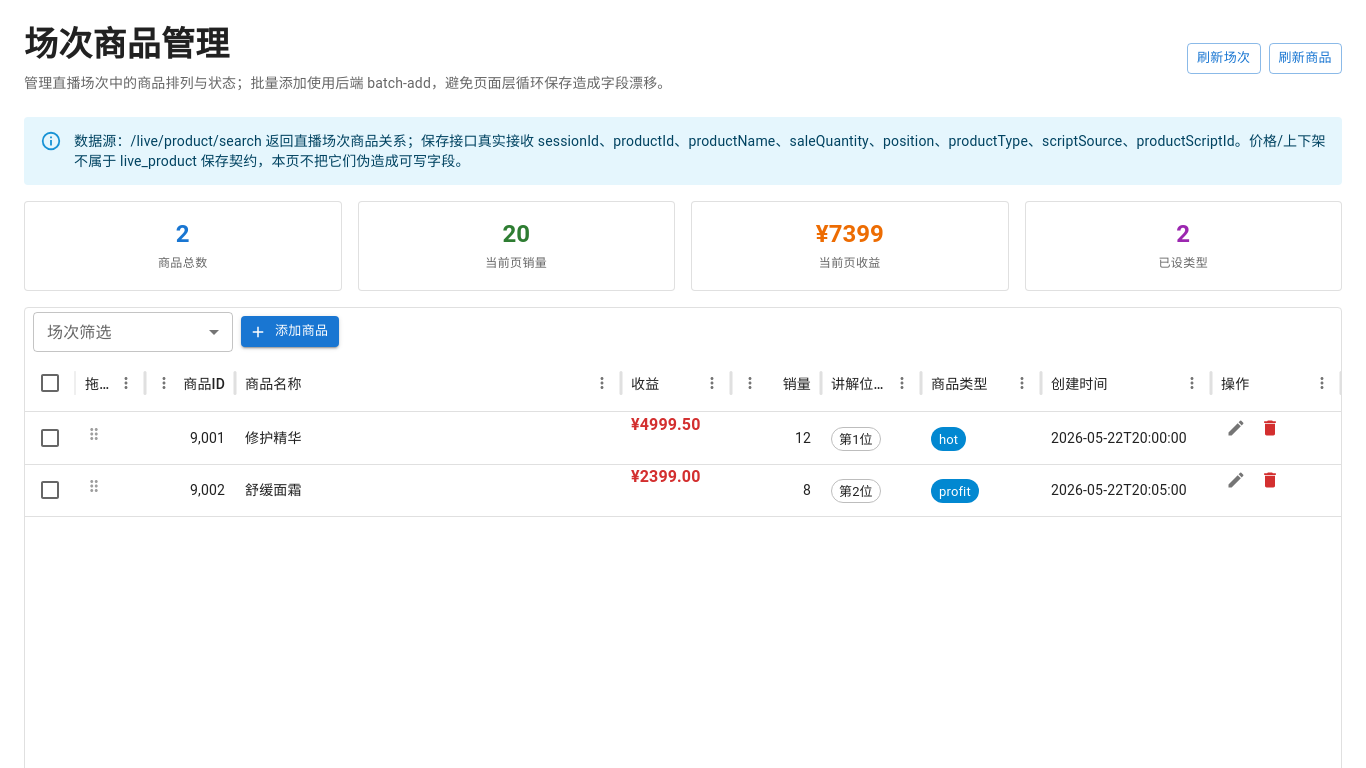
Test case: LiveProductPage › shows delete failure and keeps the row visible
Expected: the text "修护精华" is shown, [245,430,302,446]
Click the button named "删除" in the row of "9,001".
click(1270, 428)  # box [1255,413,1285,443]
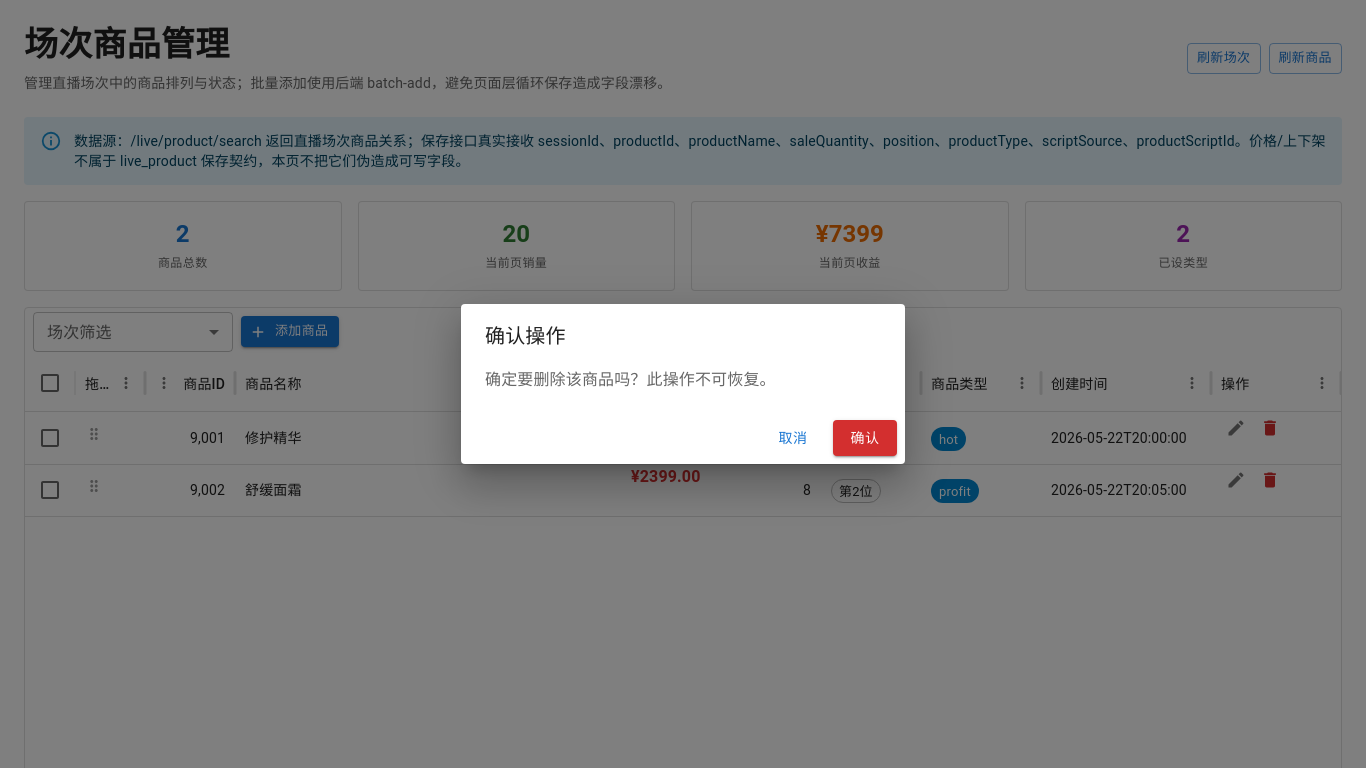
Click the button "确认".
click(865, 438)  # box [833,420,897,456]
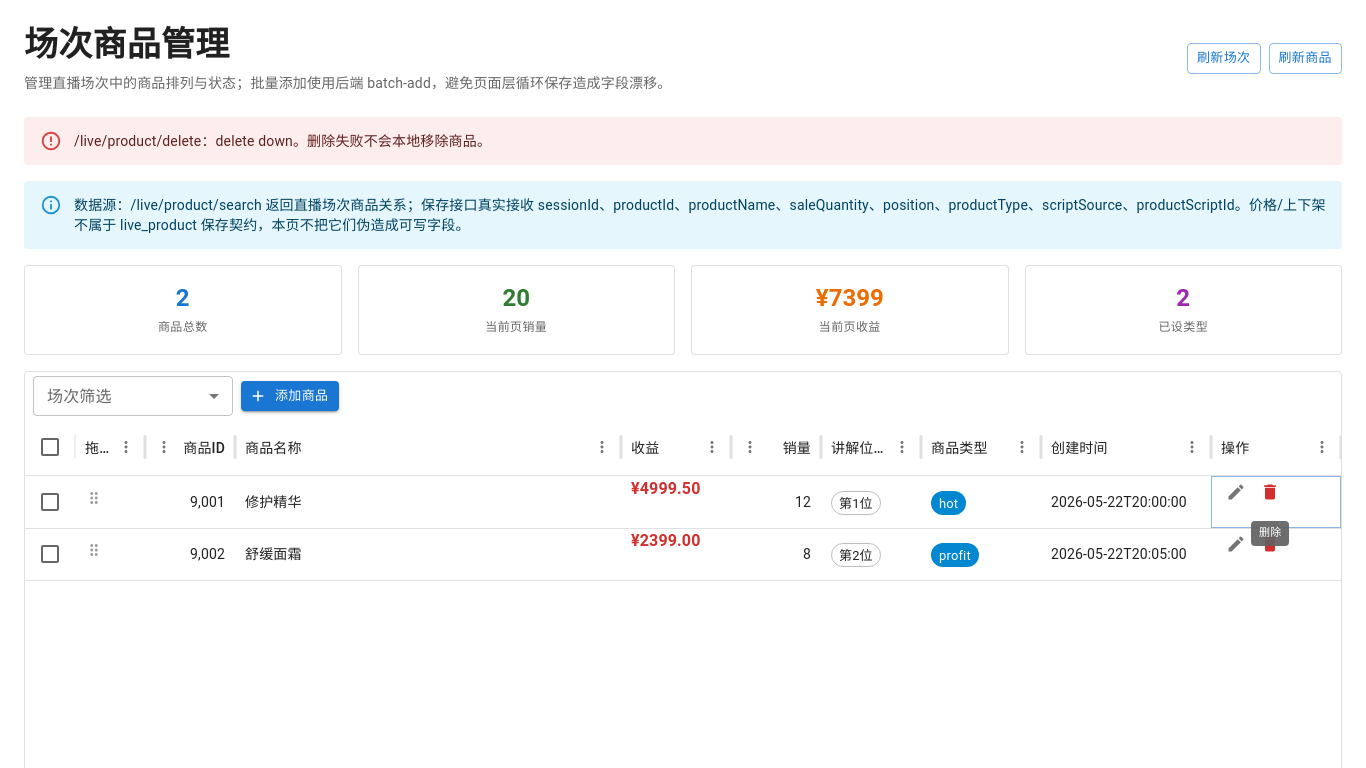
Expected: the text "修护精华" is shown, [245,494,302,510]
Now the text "/live/product/delete：delete down。删除失败不会本地移除商品。" is shown, box [74,133,491,149]
